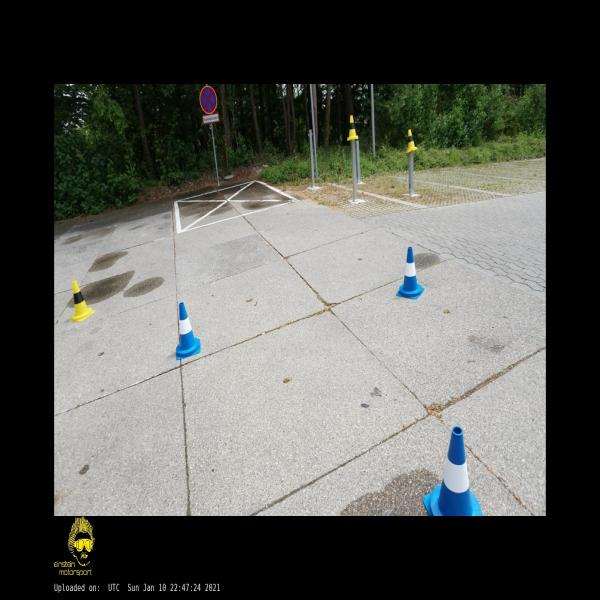blue_cone: (423, 426, 484, 516), (396, 248, 424, 300), (176, 302, 200, 360)
yellow_cone: (70, 281, 96, 321), (406, 130, 418, 152), (348, 116, 358, 140)
